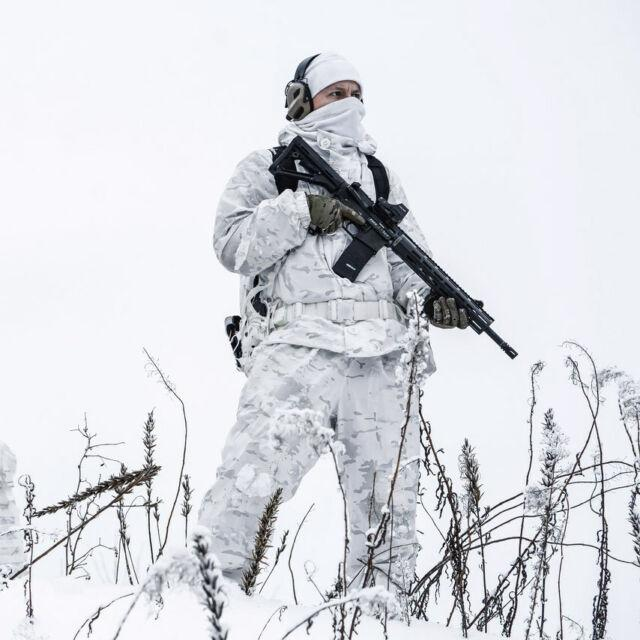Human: (201, 48, 516, 623)
